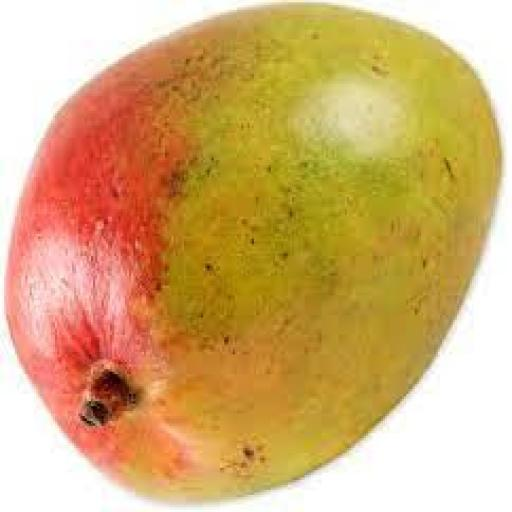mango: (9, 0, 509, 499)
